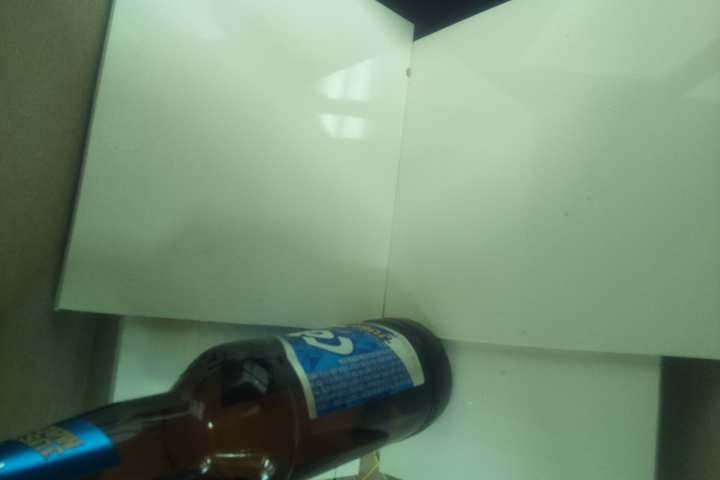makju: (1, 317, 453, 480)
